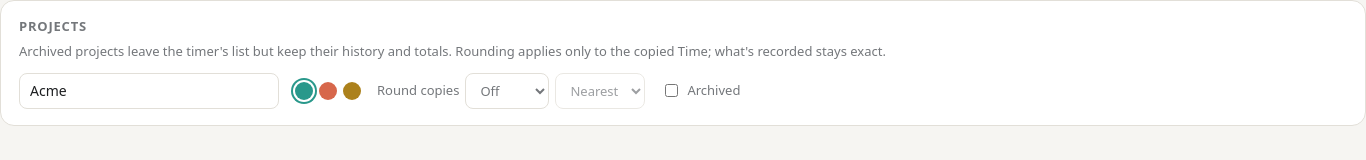
ProjectSettings rounding › saves a step with the current direction and refreshes
Select "15 min" in the dropdown named "Acme: round copied time to" at (507, 91), box left=465, top=73, right=549, bottom=109
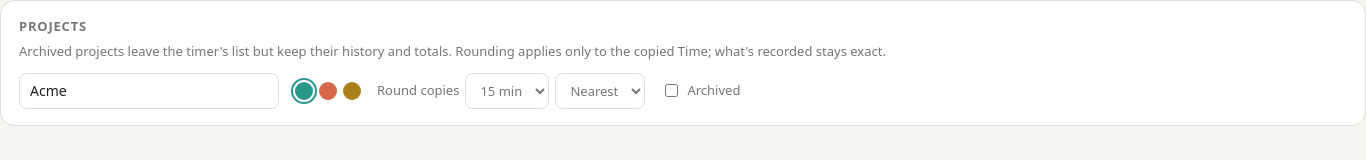
Expected: the dropdown named "Acme: round copied time" is enabled, left=555, top=73, right=645, bottom=109
